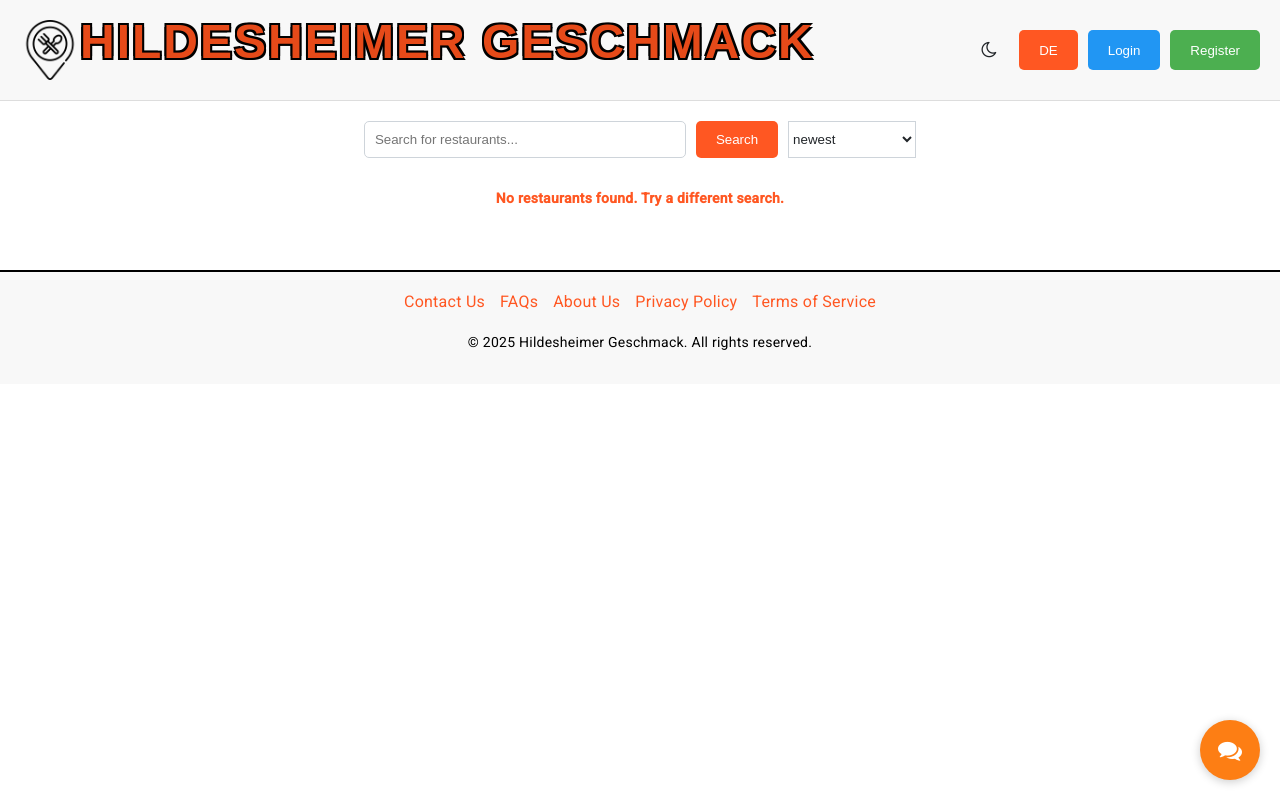
HomepageComponent › should toggle language when language button is clicked
Click the button with class "lang-btn" at (1049, 50), box [1019,30,1078,70]
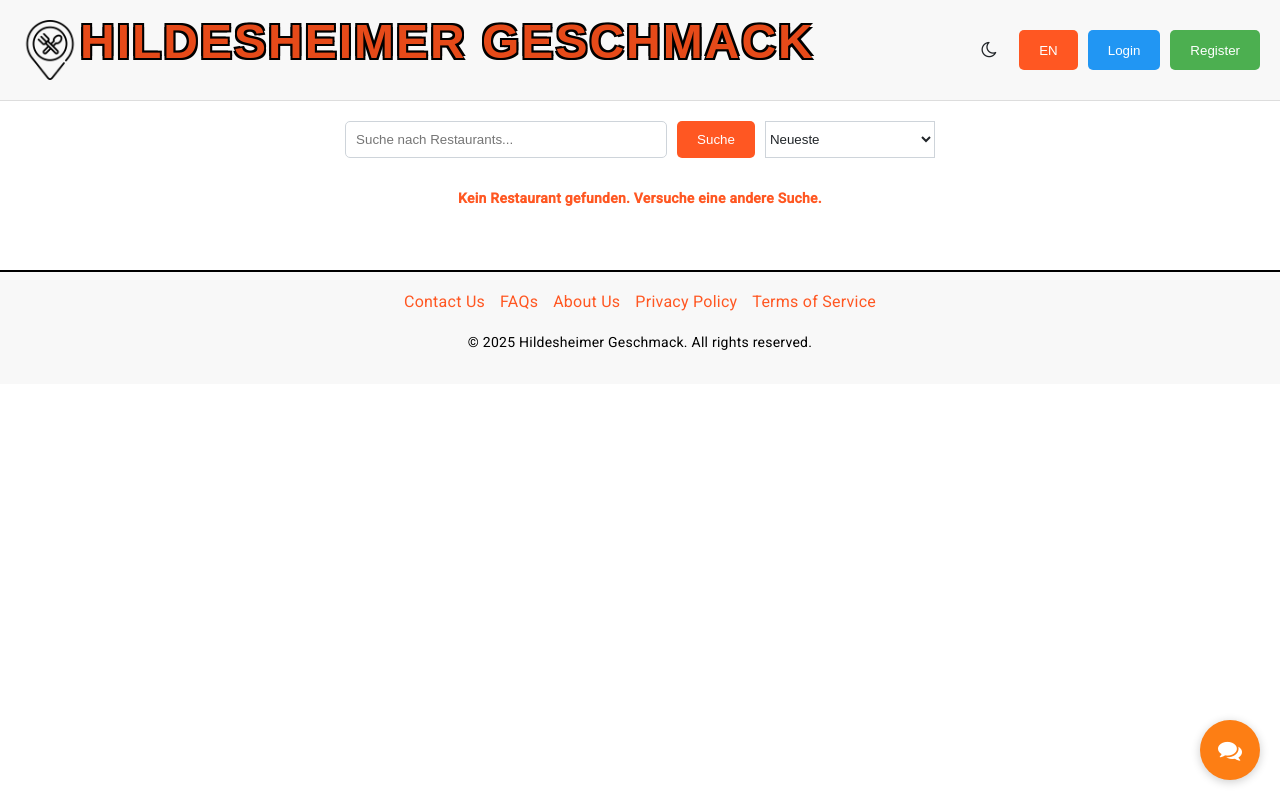
Expected: the button with class "lang-btn" reads "EN"
Click the button with class "lang-btn" at (1049, 50), box [1019,30,1078,70]
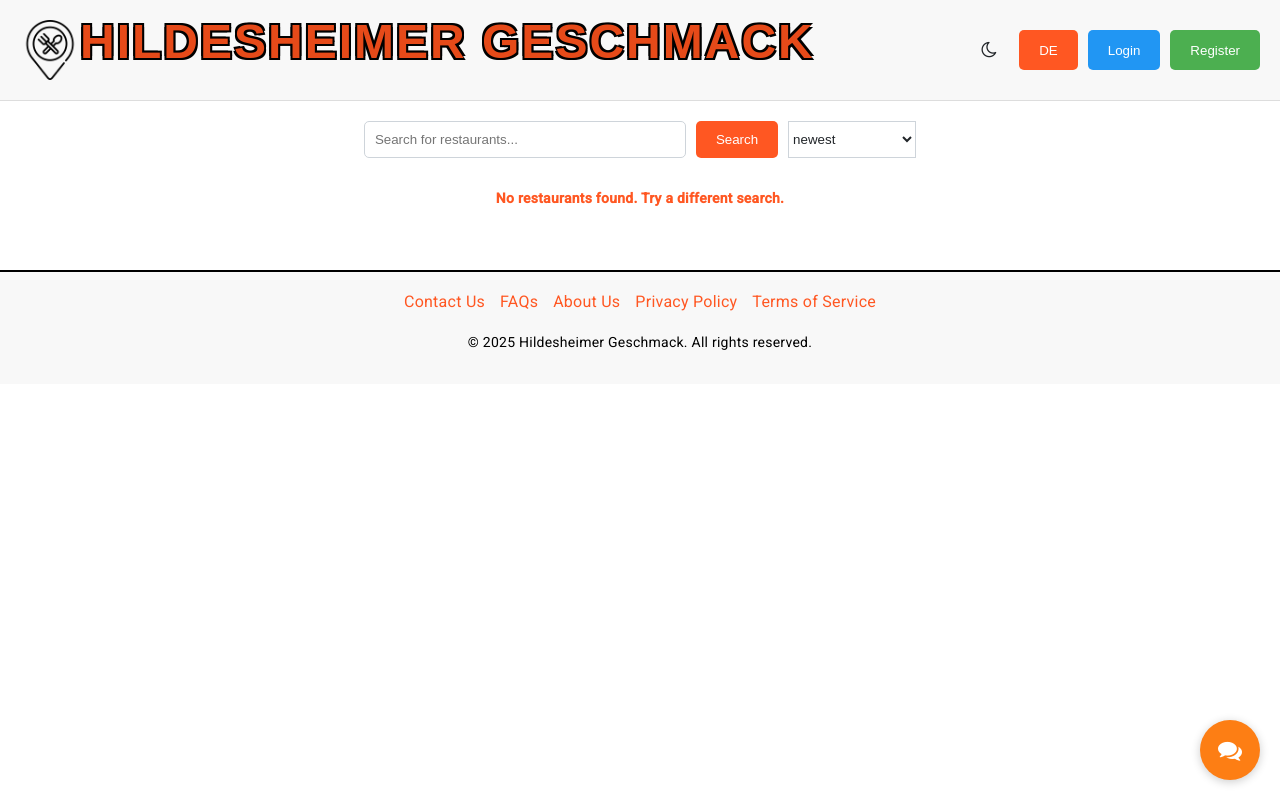
Expected: the button with class "lang-btn" reads "DE", [1019,30,1078,70]
